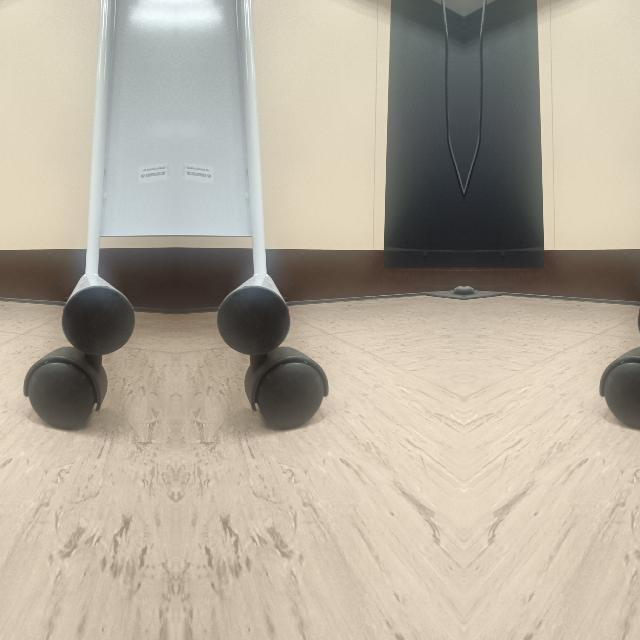obstacle: (217, 202, 329, 430), (21, 202, 133, 430), (598, 202, 640, 429)
